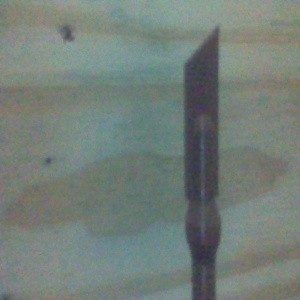cutter: (182, 24, 223, 300)
